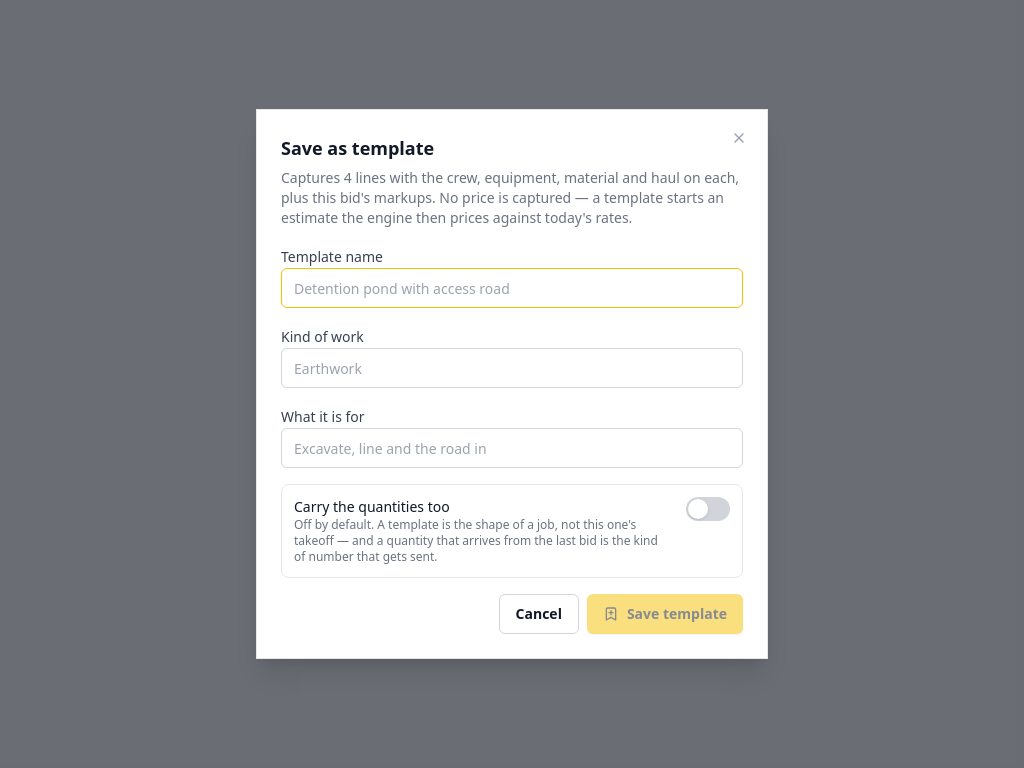
saving one › shows what went wrong rather than closing on a failure
In the field labelled "Template name": point(512, 288) x1=281 y1=268 x2=743 y2=308, type "Pond"
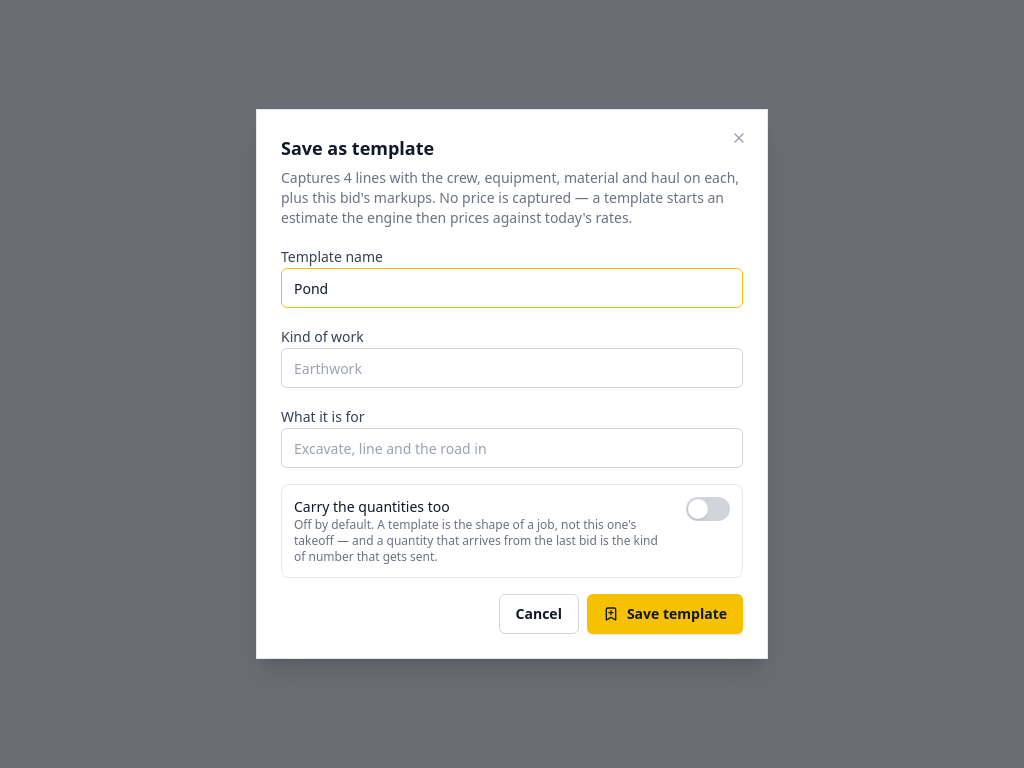
Click the button "Save template": point(665, 614) x1=587 y1=594 x2=743 y2=634
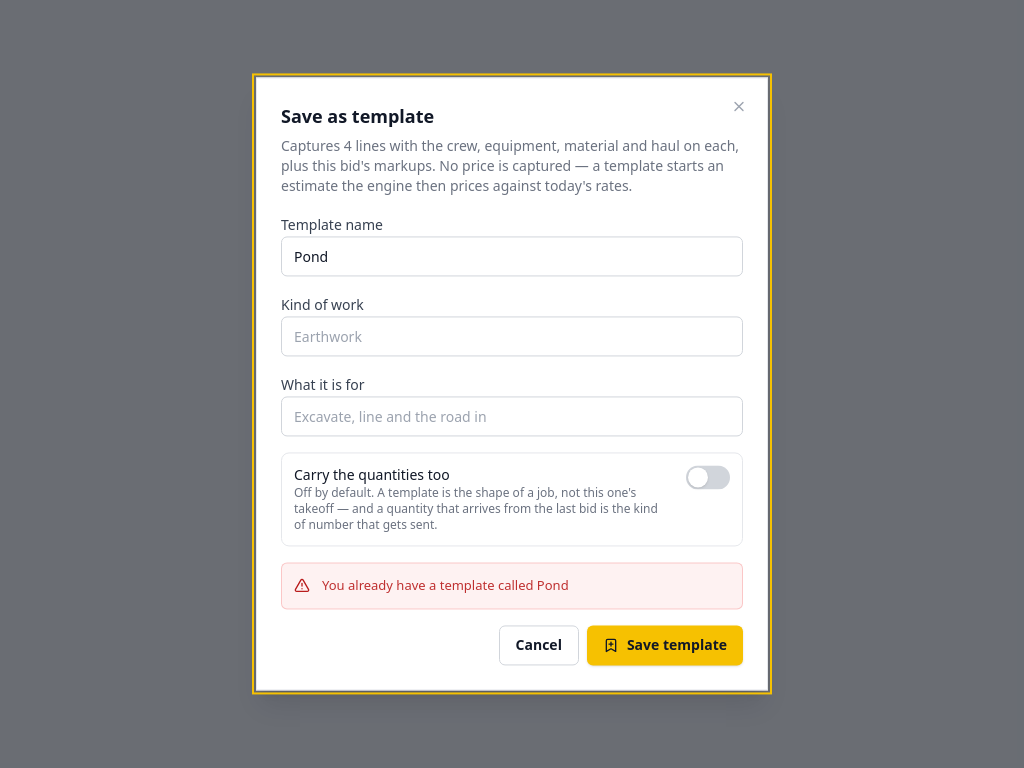
expect the text "You already have a template called Pond" is shown: met, box x1=322 y1=575 x2=569 y2=596
